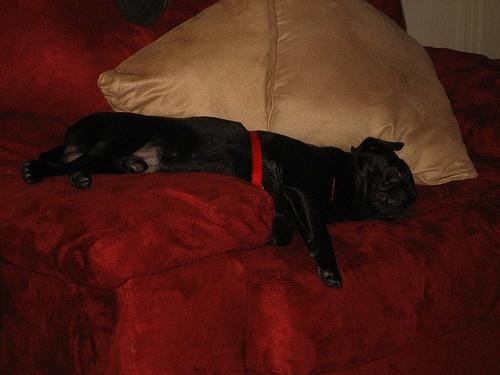chair: (4, 3, 499, 375)
dog: (19, 109, 416, 291)
